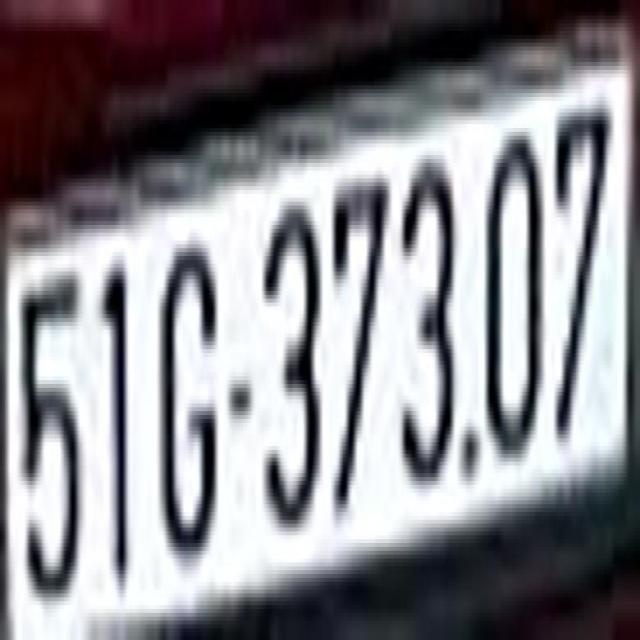0: (482, 128, 544, 458)
1: (100, 252, 130, 590)
3: (259, 202, 320, 535), (400, 171, 456, 477)
5: (15, 260, 80, 605)
7: (551, 101, 613, 446), (332, 178, 392, 520)
G: (157, 217, 220, 574)
